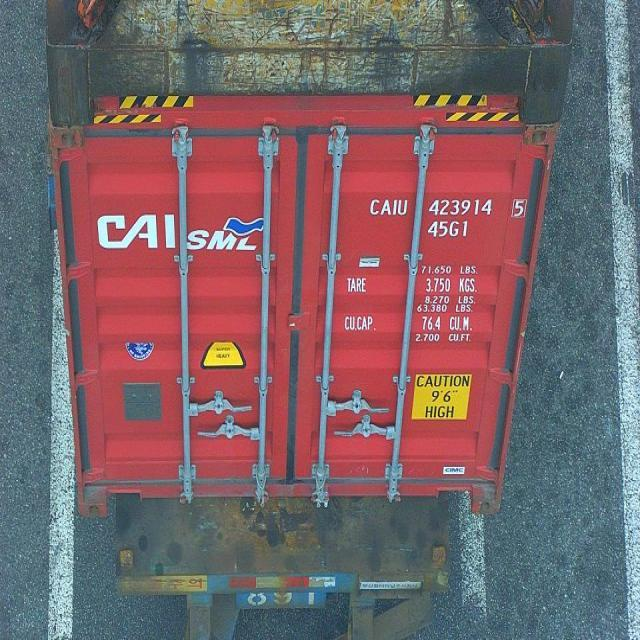ISO: (428, 221, 471, 239)
container_number: (372, 198, 527, 218)
